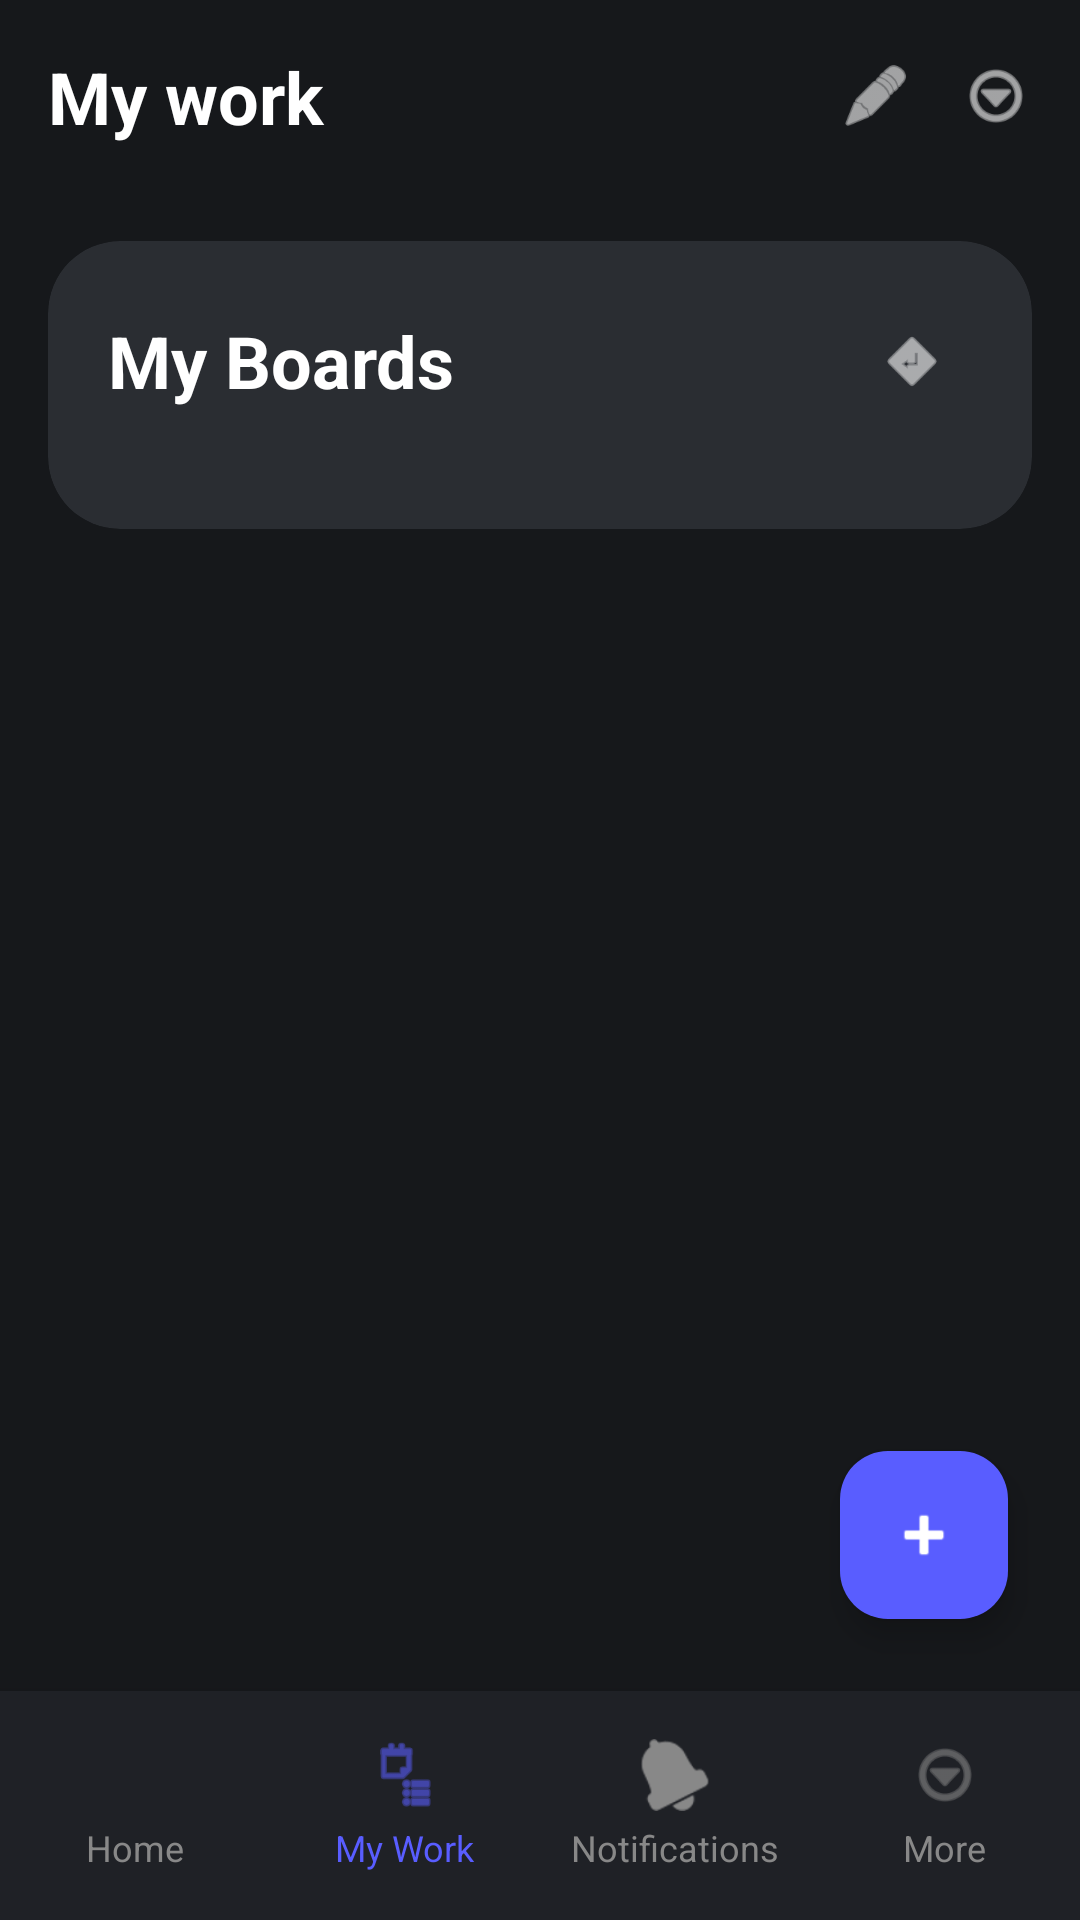

Where to tap for icons on this 1080*1920 app screen, as [x,y]:
add: [924,1535]
agenda: [405,1775]
edit: [875,95]
popup reminder: [675,1775]
